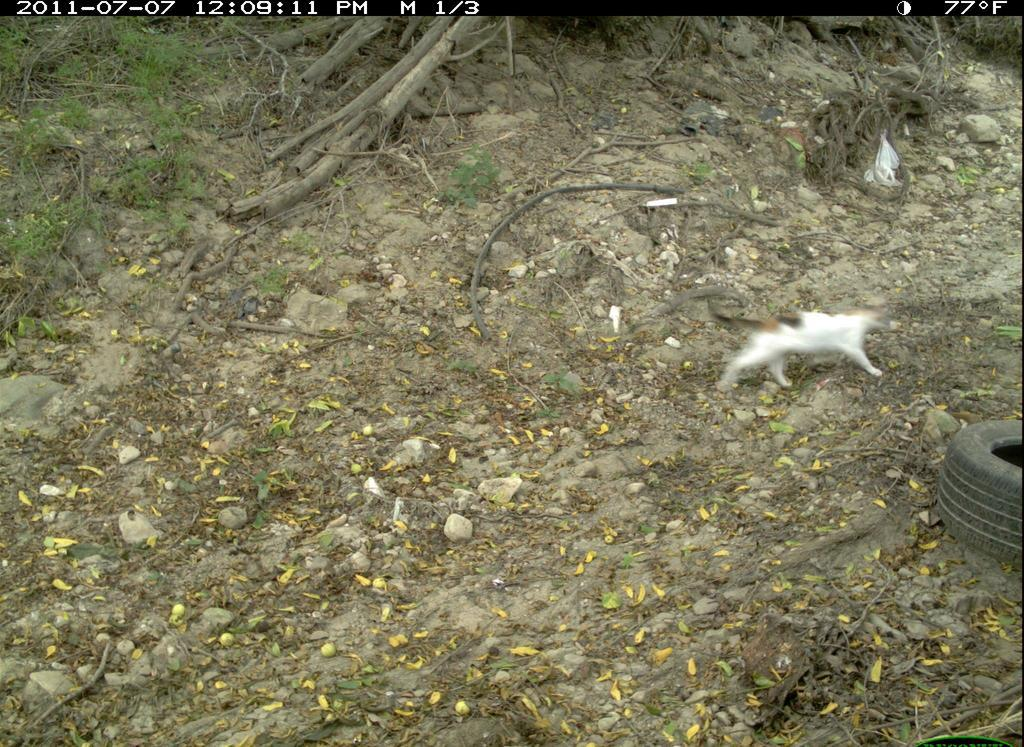cat: (706, 296, 897, 397)
